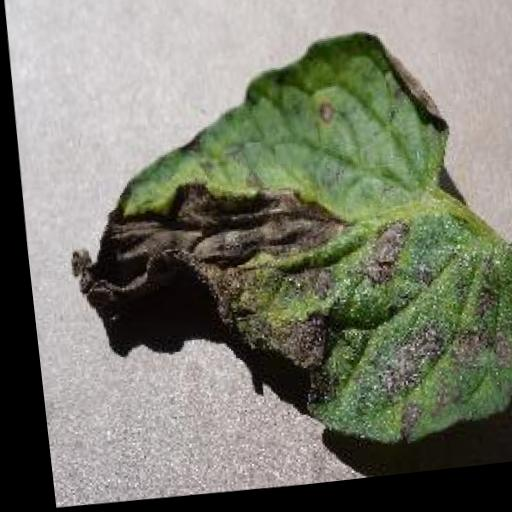Early Blight: (45, 20, 512, 479)
